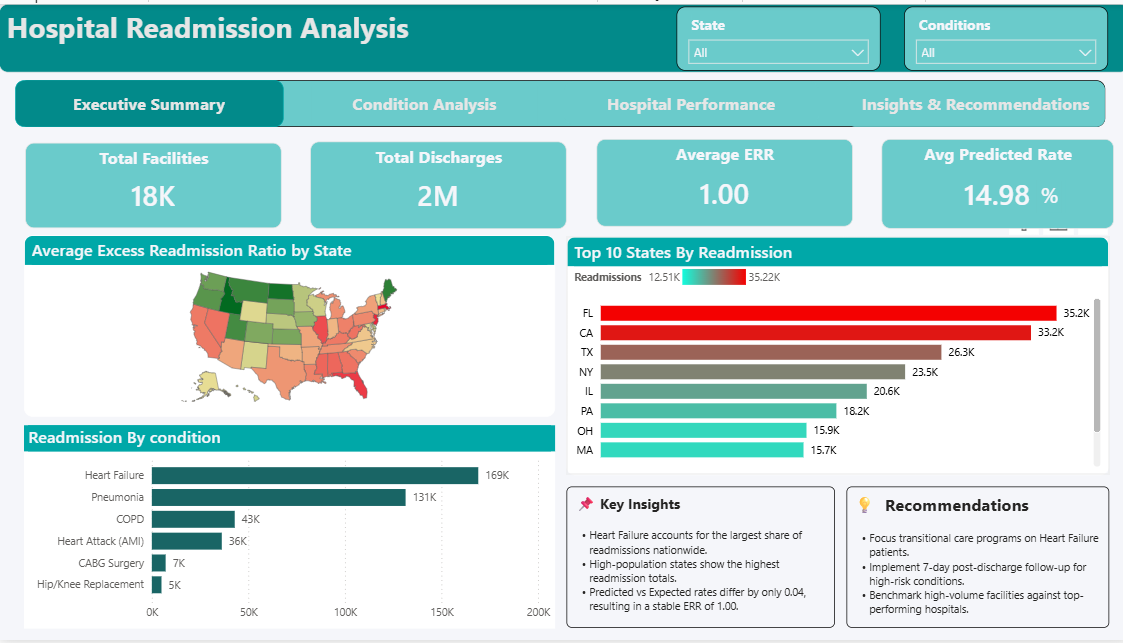

The page's visual inventory and layout, read from the dashboard file:
{"tool":"powerbi","page":{"name":"Overview","canvas":[1280,720],"ordinal":0},"visuals":[{"type":"textbox","title":"Hospital Readmission Analysis","box":[0,0,1280.3,78],"z":0},{"type":"textbox","box":[22.9,87.2,1230,52.9],"z":500,"group":"g4"},{"type":"slicer","fields":{"Values":["cleaned_data.state"]},"box":[767.1,2.9,231.5,73],"z":1000,"group":"g3"},{"type":"actionButton","title":"Executive Summary ","box":[19.1,87.1,303.6,52.7],"z":1000,"group":"g4"},{"type":"shapeMap","title":"Average Excess Readmission Ratio by State","fields":{"Category":["cleaned_data.state"],"Value":["Avg(cleaned_data.clean_err)"]},"box":[28.6,261.4,601.4,205.7],"z":1000},{"type":"actionButton","title":"Executive Summary ","box":[960,88.6,292.9,51.4],"z":1500,"group":"g4"},{"type":"slicer","fields":{"Values":["cleaned_data.clean_measure_name"]},"box":[1025.5,2.9,231.4,73],"z":2000,"group":"g3"},{"type":"actionButton","title":"Executive Summary ","box":[354.3,88.4,255.7,48.6],"z":2000,"group":"g4"},{"type":"clusteredBarChart","title":"Top 10 States By Readmission","fields":{"Y":["Sum(cleaned_data.clean_readmissions)"],"Category":["cleaned_data.state"]},"box":[642.9,262.9,614.3,270],"z":2000},{"type":"cardVisual","title":"Total Facilities","fields":{"Data":["cleaned_data.sel_Total_Facities"]},"box":[29.2,157.4,290,97.1],"z":3000,"group":"g1"},{"type":"clusteredBarChart","title":"Readmission By condition","fields":{"Category":["cleaned_data.clean_measure_name"],"Y":["Sum(cleaned_data.clean_readmissions)"]},"box":[28.6,477.1,601.4,230],"z":3000},{"type":"actionButton","title":"Executive Summary ","box":[640.8,88.4,288.6,48.6],"z":4000,"group":"g4"},{"type":"group","id":"g1","title":"Group 2","box":[29.2,152.9,1232.6,101.6],"z":4000},{"type":"cardVisual","title":"Average ERR","fields":{"Data":["cleaned_data.SEL_AVG_ERR"]},"box":[675.7,152.9,290,99.3],"z":4000,"group":"g1"},{"type":"cardVisual","title":"Total Discharges","fields":{"Data":["cleaned_data.SEL_TOTAL_DISCHARGES"]},"box":[352.4,155.4,290,98.9],"z":5000,"group":"g1"},{"type":"group","id":"g2","title":"Group 3","box":[642.9,547.1,614.3,160],"z":5000},{"type":"group","id":"g3","title":"Group 4","box":[767.1,2.9,489.8,73],"z":6000},{"type":"cardVisual","title":"Avg Predicted Rate","fields":{"Data":["cleaned_data.SEL_predicated"]},"box":[998.9,153.1,262.9,101.4],"z":6000,"group":"g1"},{"type":"textbox","title":"%","box":[1175.7,200,32.9,38.6],"z":7000},{"type":"group","id":"g4","title":"Group 1","box":[19.1,87.1,1233.8,52.9],"z":8000},{"type":"textbox","title":"📌 Key Insights","box":[642.9,547.1,304,160],"z":8000,"group":"g2"},{"type":"textbox","box":[959.6,547.1,297.6,160],"z":9000,"group":"g2"}]}

Visuals, with their boxes in screenshot pixels (x1, y1, x2, y2), scaled from the page's 1280x720 canvas onto the 1123x643 screenshot:
"Hospital Readmission Analysis" textbox: (0, 0, 1122, 70)
textbox: (20, 78, 1099, 125)
slicer - cleaned_data.state: (673, 3, 876, 68)
"Executive Summary " actionButton: (17, 78, 283, 125)
"Average Excess Readmission Ratio by State" shapeMap: (25, 233, 553, 417)
"Executive Summary " actionButton: (842, 79, 1099, 125)
slicer - cleaned_data.clean_measure_name: (900, 3, 1103, 68)
"Executive Summary " actionButton: (311, 79, 535, 122)
"Top 10 States By Readmission" clusteredBarChart: (564, 235, 1103, 476)
"Total Facilities" cardVisual: (26, 141, 280, 227)
"Readmission By condition" clusteredBarChart: (25, 426, 553, 631)
"Executive Summary " actionButton: (562, 79, 815, 122)
"Group 2" group: (26, 137, 1107, 227)
"Average ERR" cardVisual: (593, 137, 847, 225)
"Total Discharges" cardVisual: (309, 139, 564, 227)
"Group 3" group: (564, 489, 1103, 631)
"Group 4" group: (673, 3, 1103, 68)
"Avg Predicted Rate" cardVisual: (876, 137, 1107, 227)
"%" textbox: (1031, 179, 1060, 213)
"Group 1" group: (17, 78, 1099, 125)
"📌 Key Insights" textbox: (564, 489, 831, 631)
textbox: (842, 489, 1103, 631)
